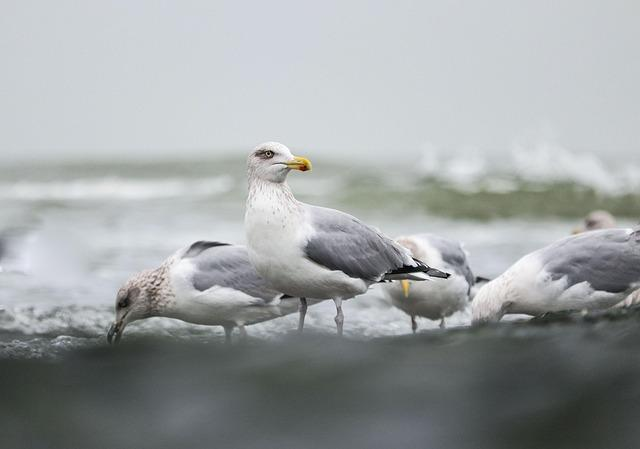Non_Gorille: (53, 99, 638, 396)
